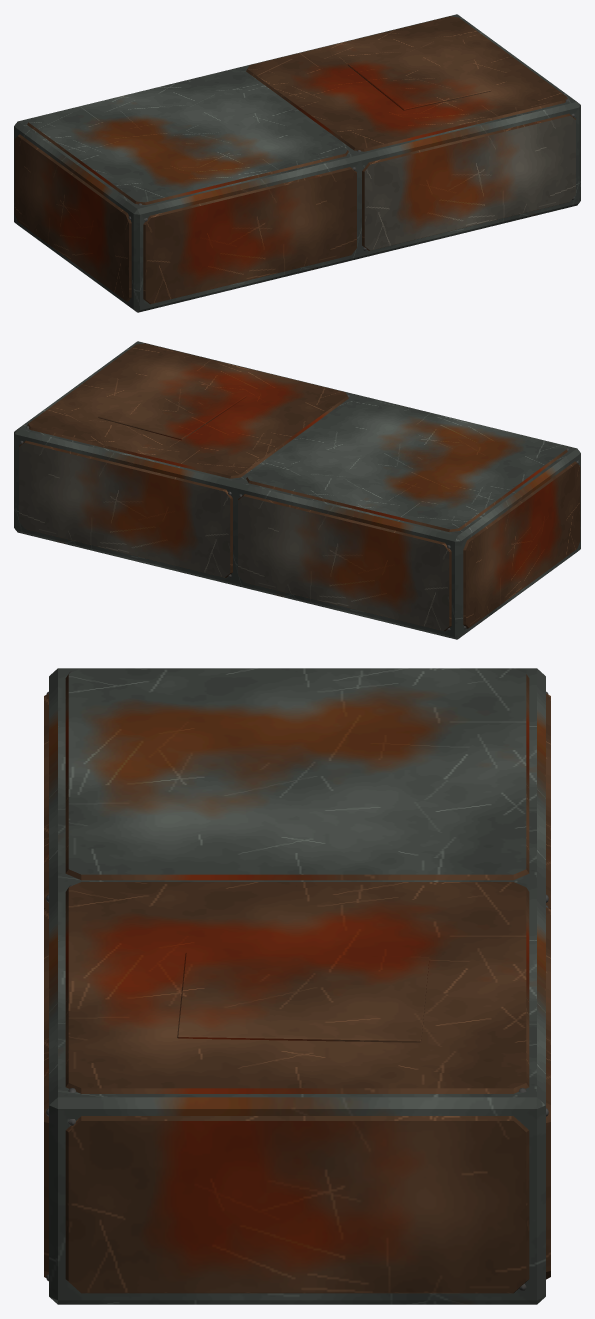
Rendered from R4B_Plate1x2.glb.
3 views of the same model, one above another, from view 1: azimuth 30°, elevation 25°; view 2: azimuth 150°, elevation 25°; view 3: azimuth 270°, elevation 25° (orthographic). The views are drawn at different scales.
Visible parts, largest first — view 1: R4B_Plate1x2; view 2: R4B_Plate1x2; view 3: R4B_Plate1x2.
Boxes of the visible parts, bbox=[...] form: R4B_Plate1x2: bbox=[14, 14, 580, 312]; R4B_Plate1x2: bbox=[14, 341, 580, 639]; R4B_Plate1x2: bbox=[44, 668, 550, 1304].
Size of the model in its own units: 1.07 by 0.248 by 0.52.
Materials: 4 (4 with a texture image).
